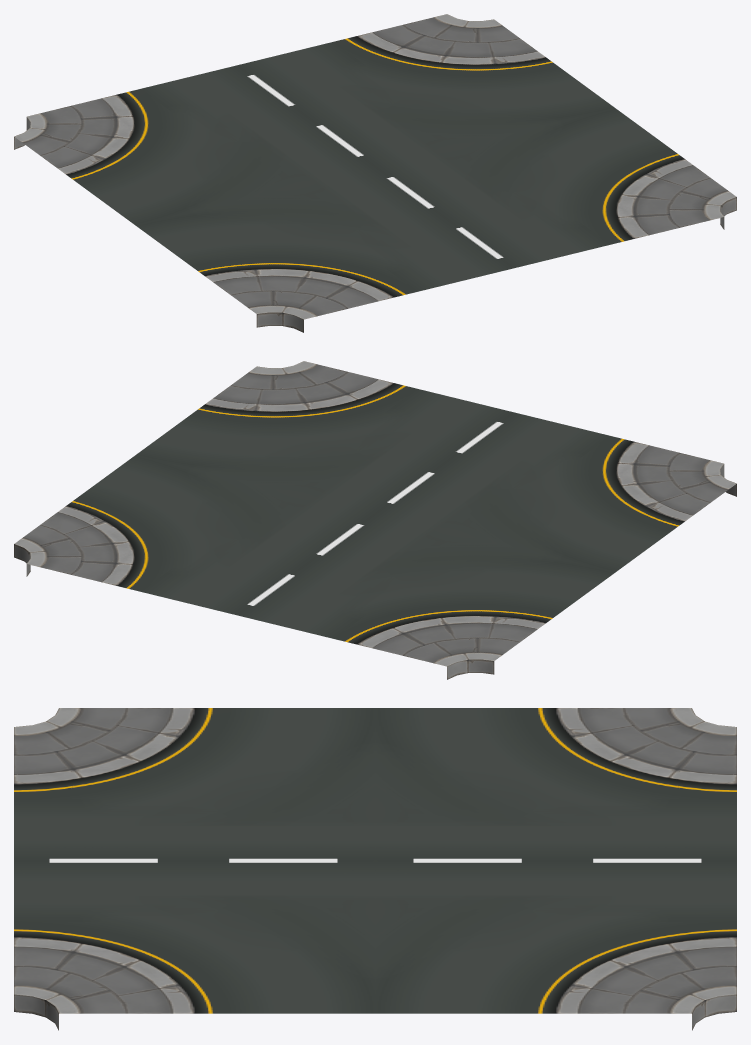
File: Road2.fbx
3 renders of one model, top to bottom at view 1: azimuth 30°, elevation 25°; view 2: azimuth 150°, elevation 25°; view 3: azimuth 270°, elevation 25°, orthographic. The views are drawn at different scales.
Parts seen in each view (by area): view 1: polySurface38; view 2: polySurface38; view 3: polySurface38.
Part boxes in pixels (box(x1,y1,x2,y2)): polySurface38: box(14, 14, 736, 332); polySurface38: box(14, 361, 736, 679); polySurface38: box(14, 708, 736, 1030).
Size of the model in its own units: 12 by 0.319 by 12.
